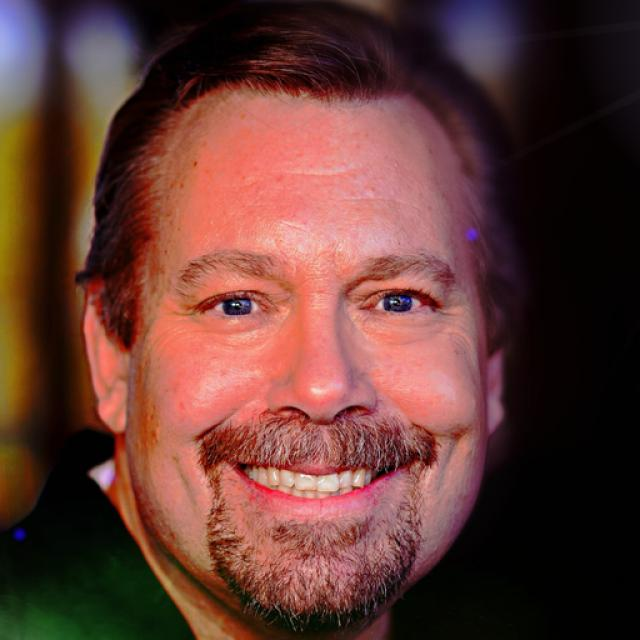Acne: (360, 186, 382, 199)
Wrinkle: (281, 167, 367, 179)
